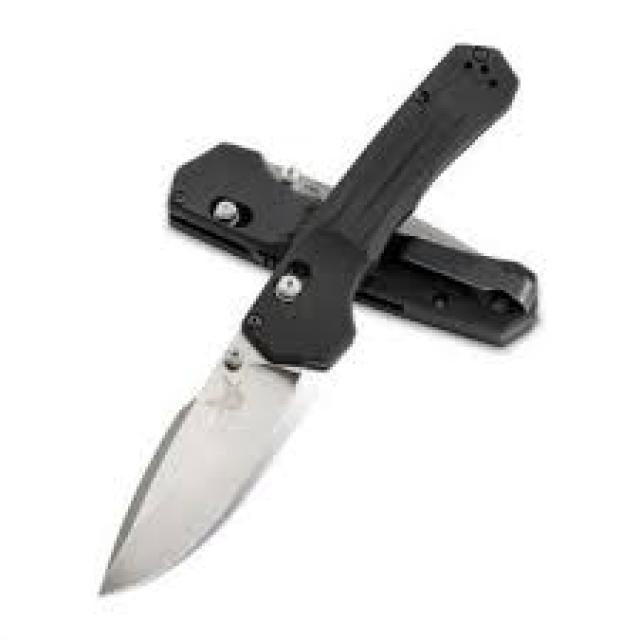knives: (91, 37, 538, 600)
